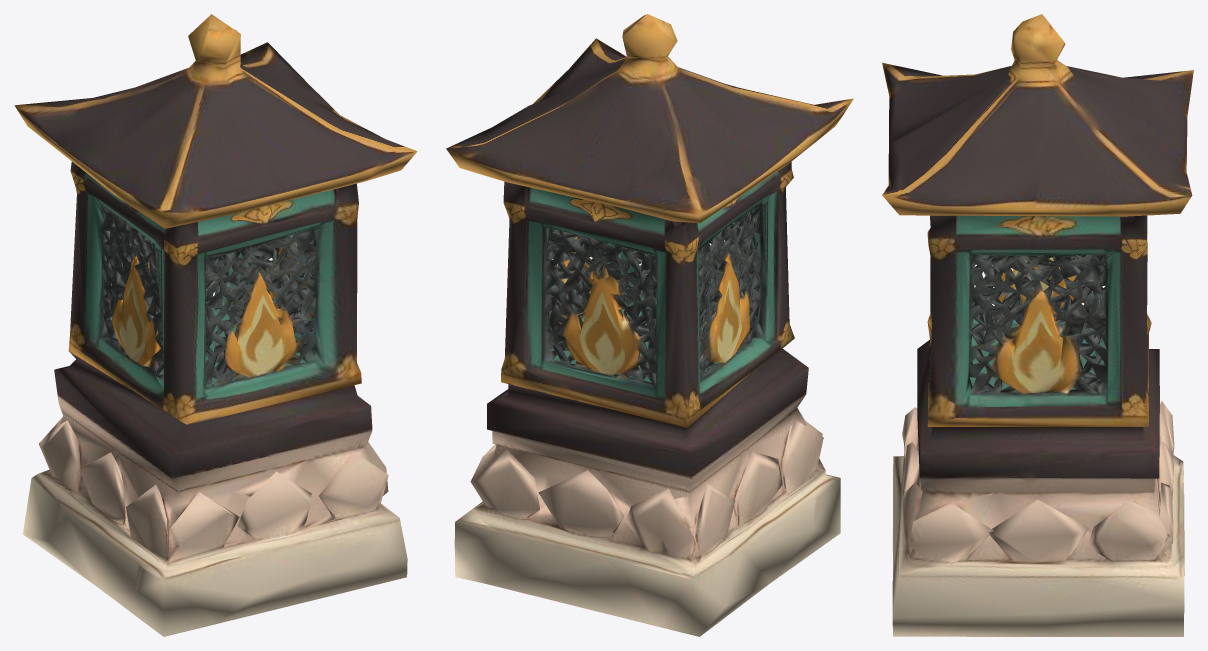
File: stone_lantern.glb
3 views of the same model, side by side, from view 1: azimuth 30°, elevation 25°; view 2: azimuth 150°, elevation 25°; view 3: azimuth 270°, elevation 25° (orthographic). The views are drawn at different scales.
Visible parts, largest first — view 1: kusuriuri; view 2: kusuriuri; view 3: kusuriuri.
Boxes of the visible parts, bbox=[...] form: kusuriuri: bbox=[14, 14, 417, 636]; kusuriuri: bbox=[446, 14, 853, 636]; kusuriuri: bbox=[882, 14, 1193, 636].
Bounding box in the file's own units: 0.6457 × 1.3 × 0.6554.
Materials: 1 (1 with a texture image).
